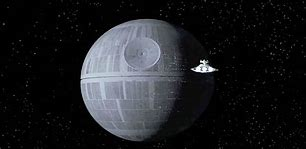Death Star: (78, 19, 209, 142)
